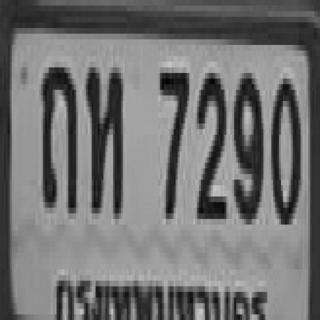A22: (39, 62, 76, 208)
A41: (84, 62, 121, 208)
N00: (269, 73, 299, 219)
N02: (195, 67, 224, 213)
N07: (158, 64, 187, 210)
N09: (232, 67, 261, 219)
